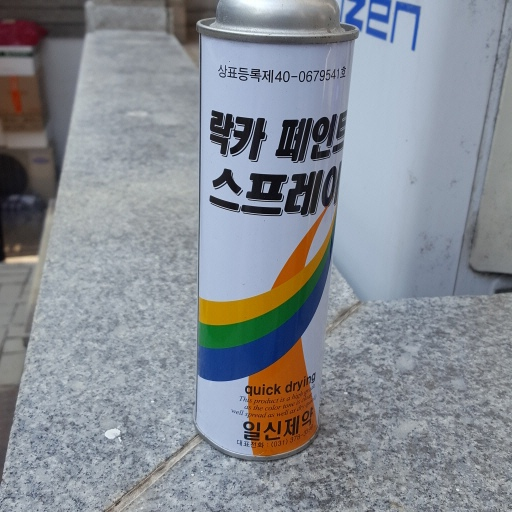Metal_0: (188, 1, 357, 463)
